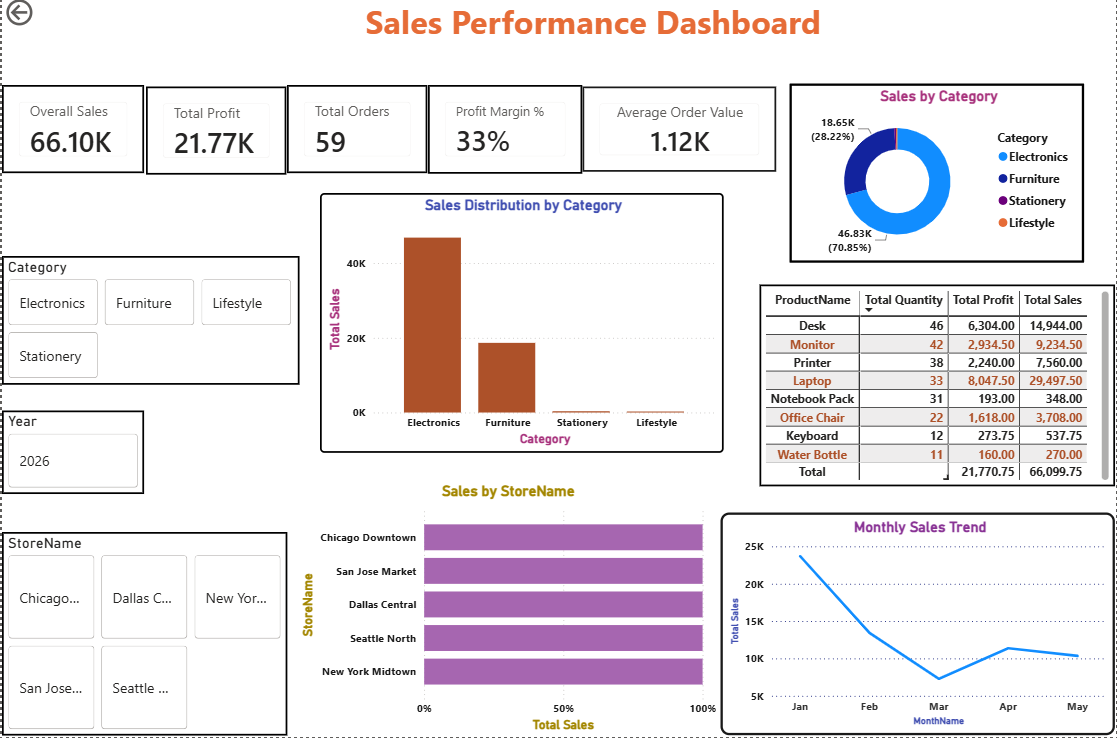

Layout of this report page (visuals, bound fields, positions):
{"tool":"powerbi","page":{"name":"Page 2","canvas":[1280,854],"ordinal":0},"visuals":[{"type":"cardVisual","fields":{"Data":["Customers.Overall Sales"]},"box":[0,103.1,163.2,101.4],"z":0},{"type":"advancedSlicerVisual","fields":{"Values":["Products (3).Category"]},"box":[0,300.7,342,147.8],"z":1000},{"type":"cardVisual","fields":{"Data":["Measures (2).Total Orders"]},"box":[328.2,103.1,161.5,101.4],"z":2000},{"type":"cardVisual","fields":{"Data":["Measures (2).Total Profit"]},"box":[165,104.8,161.5,101.4],"z":3000},{"type":"cardVisual","fields":{"Data":["Measures (2).Profit Margin %"]},"box":[489.7,103.4,177.6,101.7],"z":4000},{"type":"cardVisual","fields":{"Data":["Measures (2).Average Order Value"]},"box":[667.2,105.2,222.4,98.3],"z":5000},{"type":"advancedSlicerVisual","fields":{"Values":["Stores.StoreName"]},"box":[0,616.9,328.2,233.7],"z":6000},{"type":"clusteredColumnChart","title":"Sales Distribution by Category","fields":{"Category":["Products (3).Category"],"Y":["Measures (2).Total Sales"]},"box":[366,226.8,464,299],"z":7000},{"type":"hundredPercentStackedBarChart","title":" Sales by StoreName","fields":{"Category":["Stores.StoreName"],"Y":["Measures (2).Total Sales"]},"box":[338.5,560.2,488,290.4],"z":8000},{"type":"lineChart","title":"Monthly Sales Trend","fields":{"Y":["Measures (2).Total Sales"],"Category":["Date_Table.MonthName"]},"box":[826.5,594.6,453.6,256],"z":9000},{"type":"donutChart","title":" Sales by Category","fields":{"Category":["Products (3).Category"],"Y":["Measures (2).Total Sales"]},"box":[905.6,101.4,338.5,206.2],"z":10000},{"type":"pivotTable","fields":{"Rows":["Products (3).ProductName"],"Values":["select","Sum(Raw_Orders.Quantity)","Measures (2).Total Profit","Measures (2).Total Sales"]},"box":[871.2,333.4,409,232],"z":11000},{"type":"actionButton","box":[0,0,100,40],"z":12000},{"type":"advancedSlicerVisual","fields":{"Values":["Date_Table.Year"]},"box":[0,477.7,163.2,96.2],"z":13000},{"type":"textbox","box":[393.1,0,573,80.2],"z":13001}]}

Visuals, with their boxes in screenshot pixels (x1, y1, x2, y2), scaled from the page's 1280x854 canvas onto the 1117x738 screenshot:
cardVisual - Customers.Overall Sales: x1=0, y1=89, x2=142, y2=177
advancedSlicerVisual - Products (3).Category: x1=0, y1=260, x2=298, y2=388
cardVisual - Measures (2).Total Orders: x1=286, y1=89, x2=427, y2=177
cardVisual - Measures (2).Total Profit: x1=144, y1=91, x2=285, y2=178
cardVisual - Measures (2).Profit Margin %: x1=427, y1=89, x2=582, y2=177
cardVisual - Measures (2).Average Order Value: x1=582, y1=91, x2=776, y2=176
advancedSlicerVisual - Stores.StoreName: x1=0, y1=533, x2=286, y2=735
"Sales Distribution by Category" clusteredColumnChart: x1=319, y1=196, x2=724, y2=454
" Sales by StoreName" hundredPercentStackedBarChart: x1=295, y1=484, x2=721, y2=735
"Monthly Sales Trend" lineChart: x1=721, y1=514, x2=1116, y2=735
" Sales by Category" donutChart: x1=790, y1=88, x2=1086, y2=266
pivotTable - Products (3).ProductName x select: x1=760, y1=288, x2=1116, y2=489
actionButton: x1=0, y1=0, x2=87, y2=35
advancedSlicerVisual - Date_Table.Year: x1=0, y1=413, x2=142, y2=496
textbox: x1=343, y1=0, x2=843, y2=69
